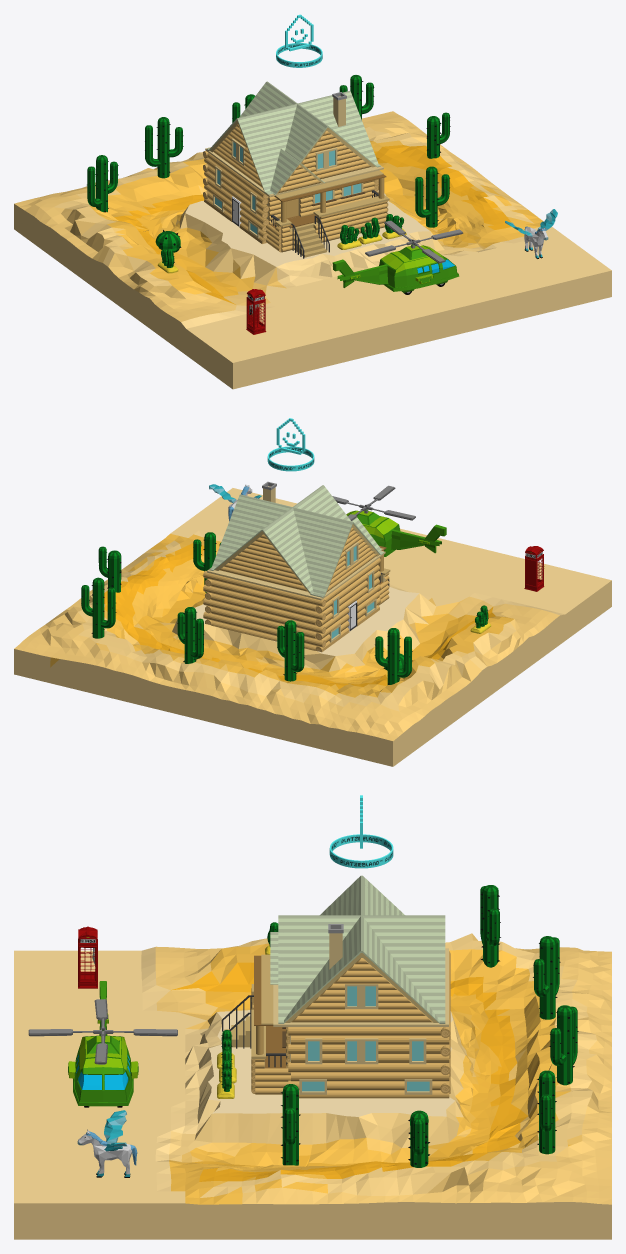
3 views of the same model, one above another, from view 1: azimuth 30°, elevation 25°; view 2: azimuth 150°, elevation 25°; view 3: azimuth 270°, elevation 25° (orthographic). The views are drawn at different scales.
Parts seen in each view (by area): view 1: Cube.001, Cube.1516, VEHICLES_HELICOPTER, Cylinder.044, Cylinder.037, Cylinder.045, TYPE_PREMIUM, OBJRANDOM_PHONEBOOTH, ANIMAL_PEGASO, Cylinder.038, Cylinder.042; view 2: Cube.001, Cube.1516, VEHICLES_HELICOPTER, Cylinder.042, Cylinder.045, Cylinder.044, Cylinder.043, TYPE_PREMIUM, OBJRANDOM_PHONEBOOTH, Cylinder.038, Cylinder.037; view 3: Cube.001, Cube.1516, VEHICLES_HELICOPTER, Cylinder.044, Cylinder.043, ANIMAL_PEGASO, Cylinder.045, Cylinder.042, Cylinder.037, TYPE_PREMIUM, OBJRANDOM_PHONEBOOTH, Cylinder.038.
Boxes of the visible parts, left/top/right/bottom form: Cube.001: left=14, top=111, right=611, bottom=389; Cube.1516: left=203, top=81, right=389, bottom=258; VEHICLES_HELICOPTER: left=332, top=220, right=463, bottom=294; Cylinder.044: left=145, top=117, right=183, bottom=178; Cylinder.037: left=415, top=166, right=449, bottom=227; Cylinder.045: left=87, top=155, right=118, bottom=212; TYPE_PREMIUM: left=276, top=14, right=322, bottom=67; OBJRANDOM_PHONEBOOTH: left=246, top=289, right=266, bottom=334; ANIMAL_PEGASO: left=505, top=209, right=557, bottom=258; Cylinder.038: left=426, top=112, right=450, bottom=158; Cylinder.042: left=339, top=75, right=374, bottom=119; Cube.001: left=14, top=488, right=611, bottom=766; Cube.1516: left=203, top=481, right=390, bottom=652; VEHICLES_HELICOPTER: left=332, top=485, right=446, bottom=556; Cylinder.042: left=81, top=577, right=116, bottom=638; Cylinder.045: left=374, top=628, right=412, bottom=684; Cylinder.044: left=277, top=620, right=304, bottom=681; Cylinder.043: left=177, top=607, right=203, bottom=663; TYPE_PREMIUM: left=267, top=418, right=314, bottom=471; OBJRANDOM_PHONEBOOTH: left=524, top=546, right=544, bottom=591; Cylinder.038: left=98, top=546, right=121, bottom=592; Cylinder.037: left=193, top=532, right=221, bottom=592; Cube.001: left=14, top=933, right=611, bottom=1239; Cube.1516: left=221, top=875, right=450, bottom=1098; VEHICLES_HELICOPTER: left=28, top=981, right=177, bottom=1107; Cylinder.044: left=533, top=936, right=560, bottom=1019; Cylinder.043: left=549, top=1005, right=578, bottom=1085; ANIMAL_PEGASO: left=77, top=1110, right=137, bottom=1177; Cylinder.045: left=480, top=885, right=500, bottom=967; Cylinder.042: left=537, top=1070, right=556, bottom=1154; Cylinder.037: left=281, top=1084, right=300, bottom=1165; TYPE_PREMIUM: left=329, top=795, right=393, bottom=868; OBJRANDOM_PHONEBOOTH: left=78, top=926, right=97, bottom=988; Cylinder.038: left=408, top=1110, right=429, bottom=1167.
Bounding box in the file's own units: 4002 × 2441 × 4001.
Materials: 45 (4 with a texture image).
